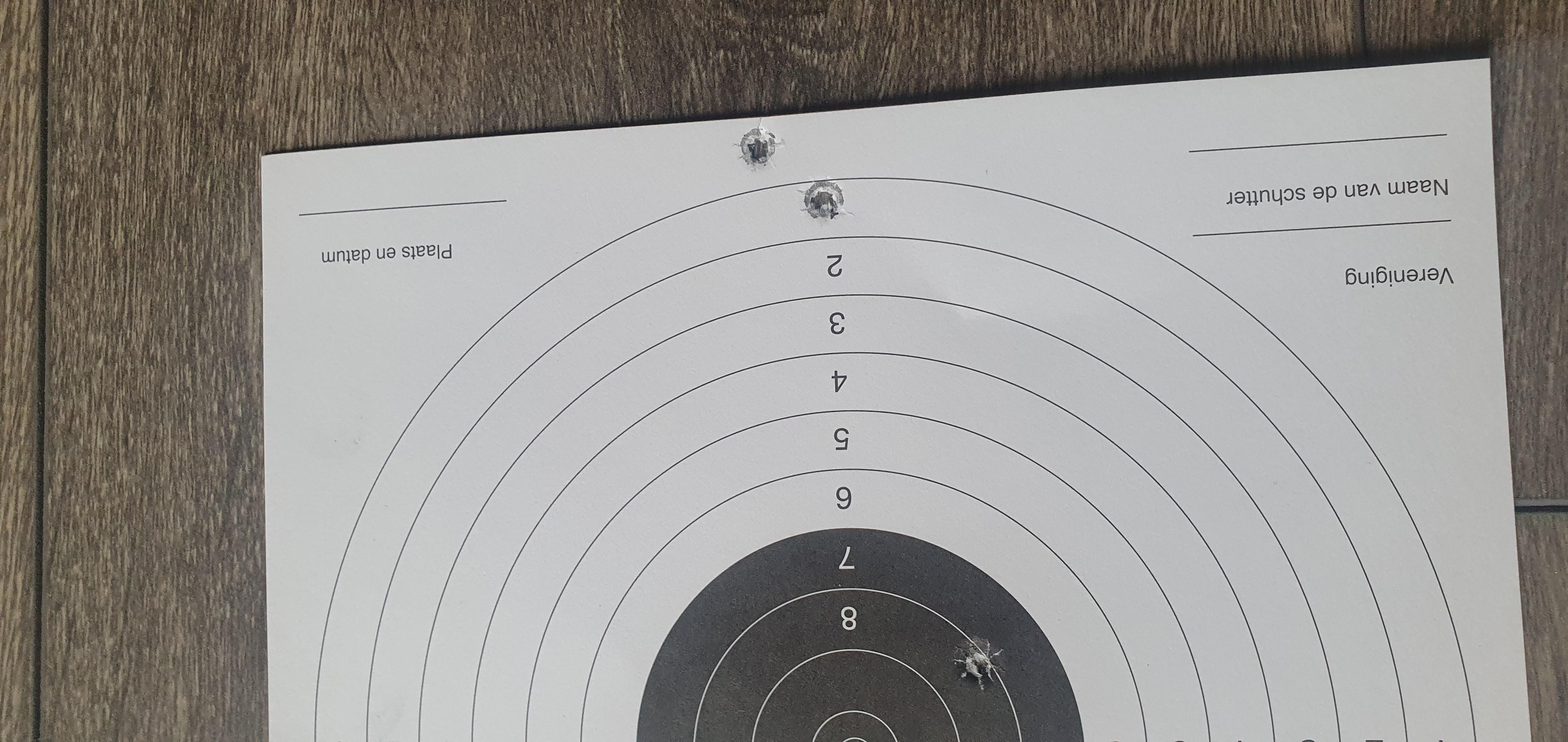hole: (109, 449, 226, 476), (1098, 377, 1196, 403), (1201, 348, 1314, 370)
